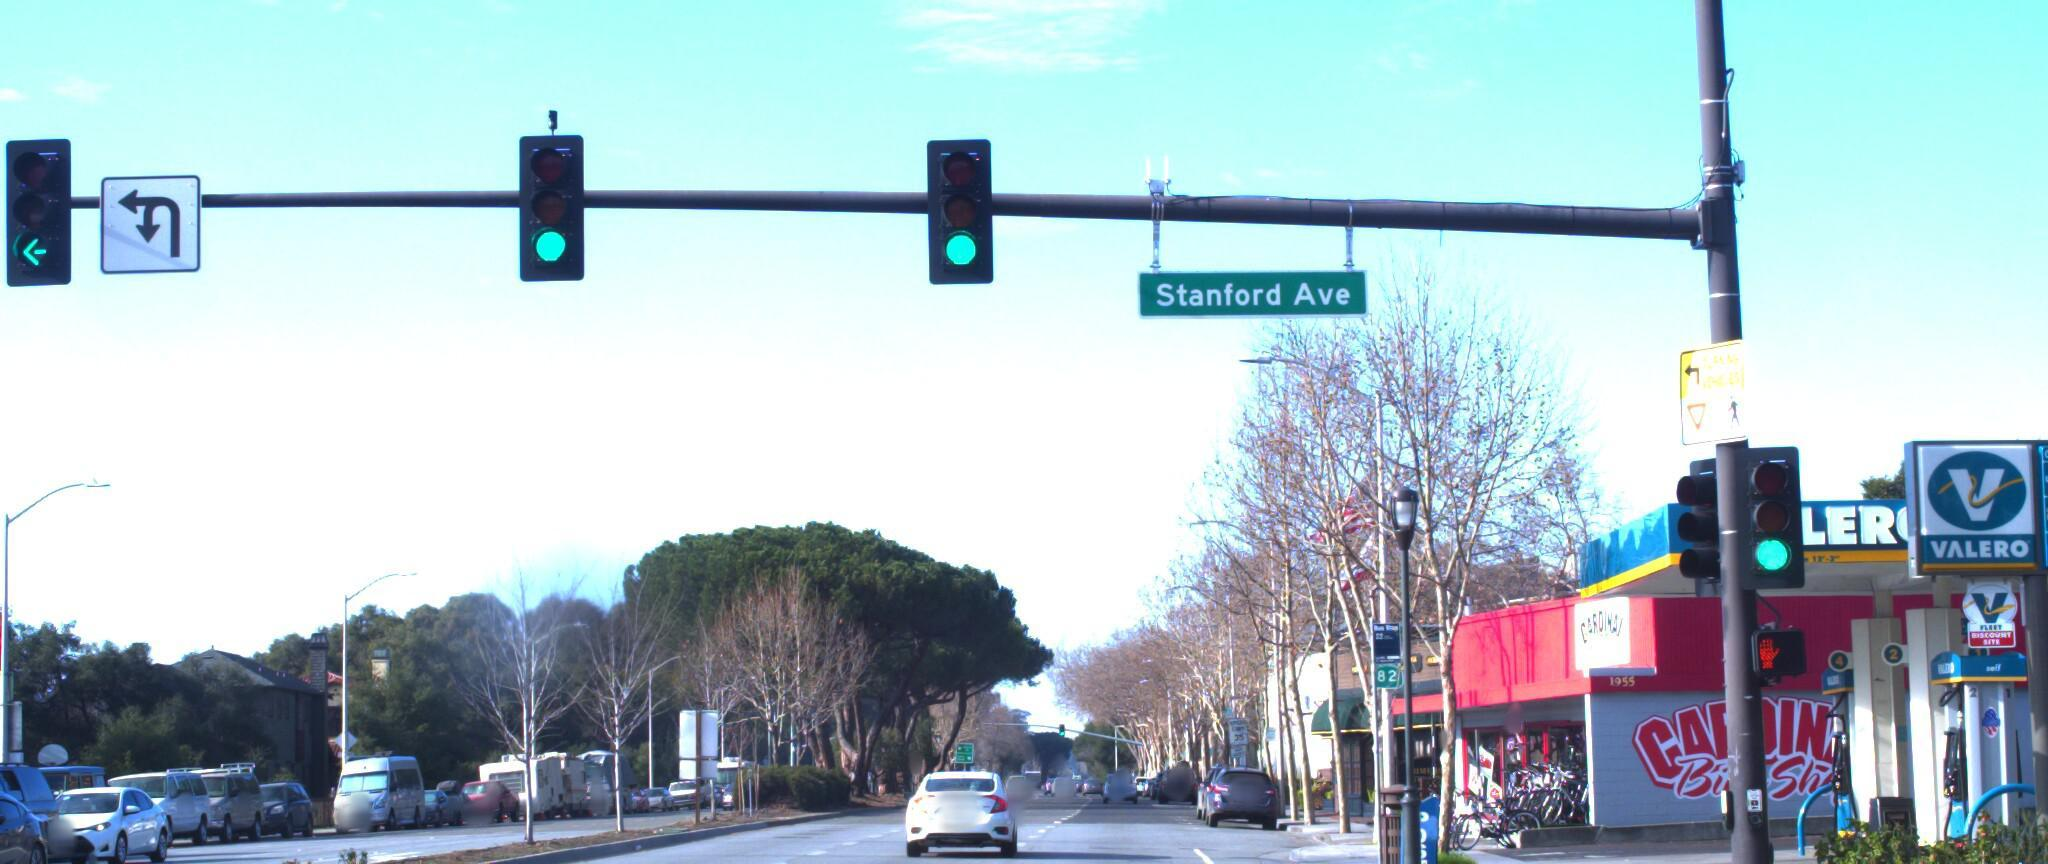bicycle: (1438, 778, 1524, 838)
car: (0, 777, 189, 864), (73, 754, 222, 844), (889, 750, 1021, 847), (0, 778, 77, 864), (1196, 745, 1275, 820), (0, 732, 3, 864)
